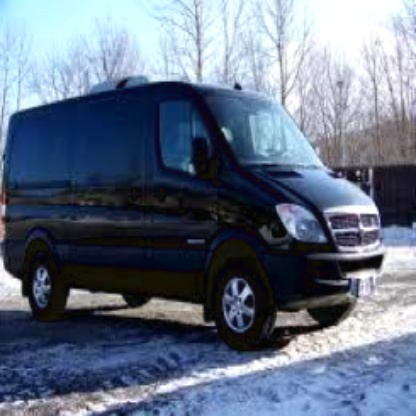Vehicle: (3, 75, 389, 356)
